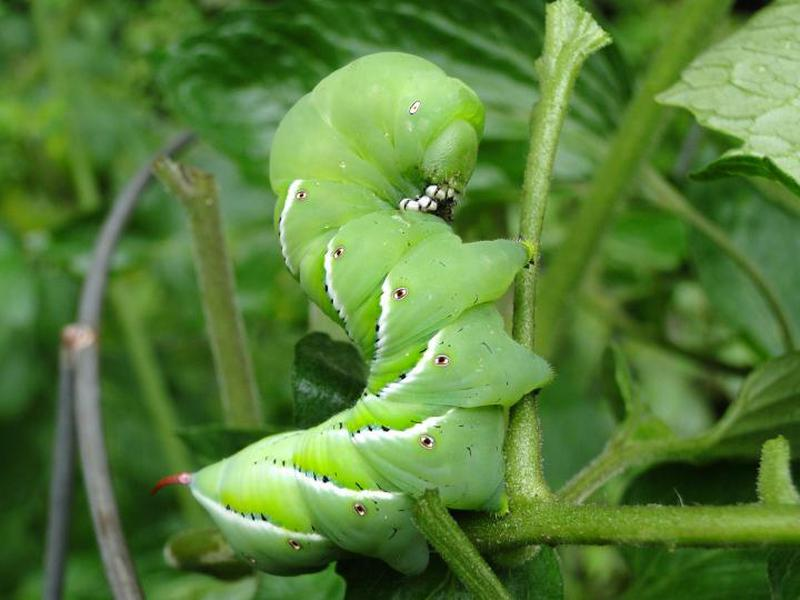Rice_horned_caterpillar: (194, 42, 527, 572)
